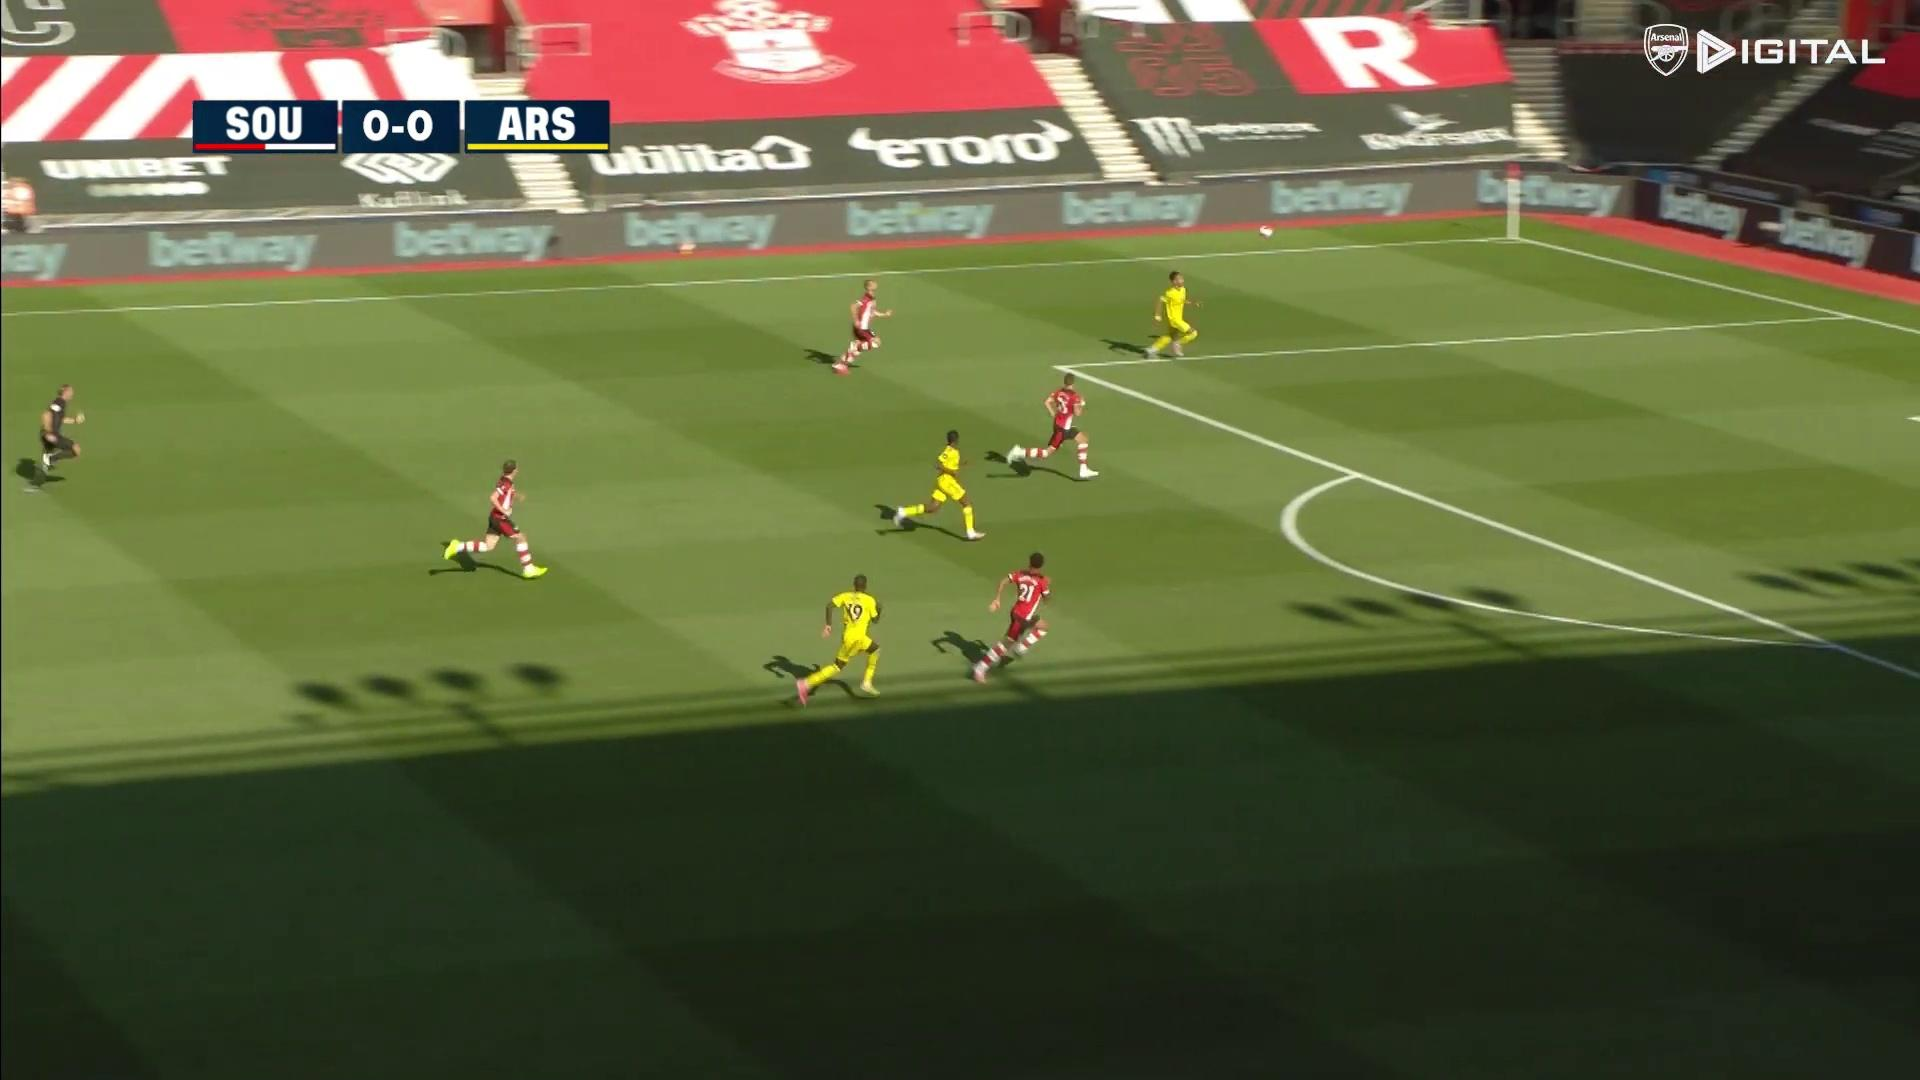ball: (1258, 224, 1274, 242)
player: (441, 452, 551, 579), (795, 572, 887, 709), (968, 549, 1058, 689), (887, 426, 984, 544), (1004, 371, 1100, 480), (831, 278, 892, 380), (1146, 268, 1201, 365)
referee: (20, 380, 89, 492)
